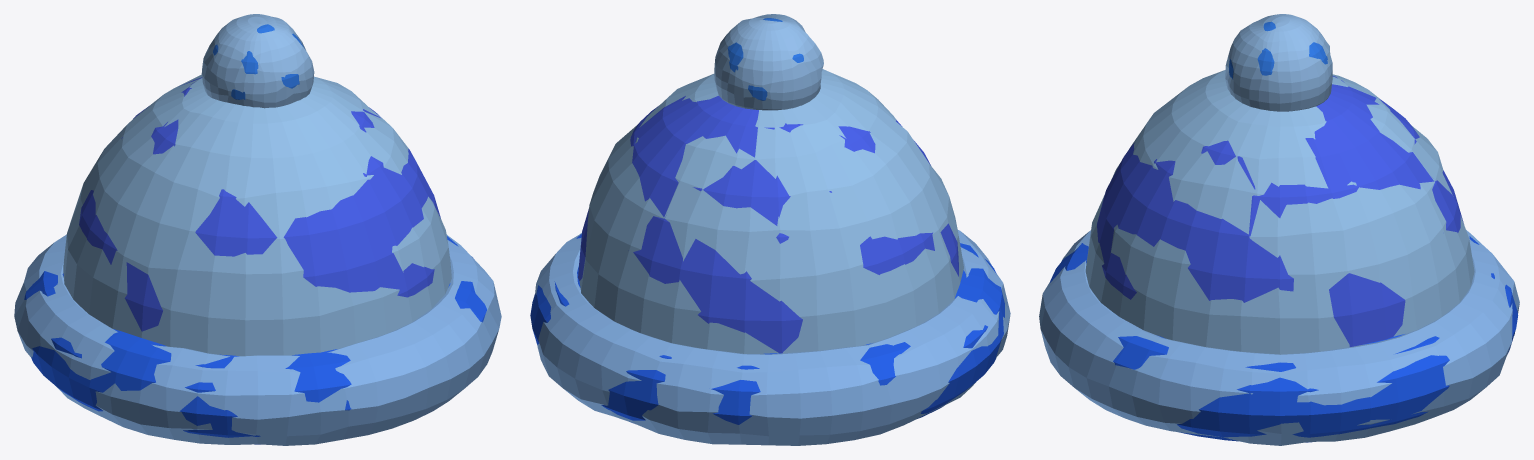
File: bean_poop.fbx
The picture shows the model from 3 angles, left to right: view 1: azimuth 30°, elevation 25°; view 2: azimuth 150°, elevation 25°; view 3: azimuth 270°, elevation 25°; orthographic projection.
Parts seen in each view (by area): view 1: Sphere, Torus, Sphere.001, Torus.001, Sphere.002, Sphere.003; view 2: Sphere, Torus, Sphere.001, Torus.001, Sphere.002, Sphere.003; view 3: Sphere, Torus, Sphere.001, Torus.001, Sphere.002, Sphere.003.
Boxes of the visible parts, bbox=[...] form: Sphere: bbox=[63, 74, 451, 356]; Torus: bbox=[14, 234, 501, 445]; Sphere.001: bbox=[79, 77, 440, 331]; Torus.001: bbox=[24, 236, 486, 444]; Sphere.002: bbox=[201, 14, 314, 108]; Sphere.003: bbox=[213, 24, 304, 99]; Sphere: bbox=[579, 69, 963, 353]; Torus: bbox=[535, 230, 1010, 445]; Sphere.001: bbox=[578, 95, 958, 353]; Torus.001: bbox=[530, 234, 1004, 424]; Sphere.002: bbox=[714, 14, 823, 110]; Sphere.003: bbox=[727, 18, 803, 100]; Sphere: bbox=[1085, 70, 1474, 354]; Torus: bbox=[1039, 230, 1519, 445]; Sphere.001: bbox=[1097, 76, 1463, 346]; Torus.001: bbox=[1049, 236, 1518, 442]; Sphere.002: bbox=[1225, 14, 1332, 111]; Sphere.003: bbox=[1229, 21, 1327, 79].
Size of the model in its own units: 244 by 192 by 246.
